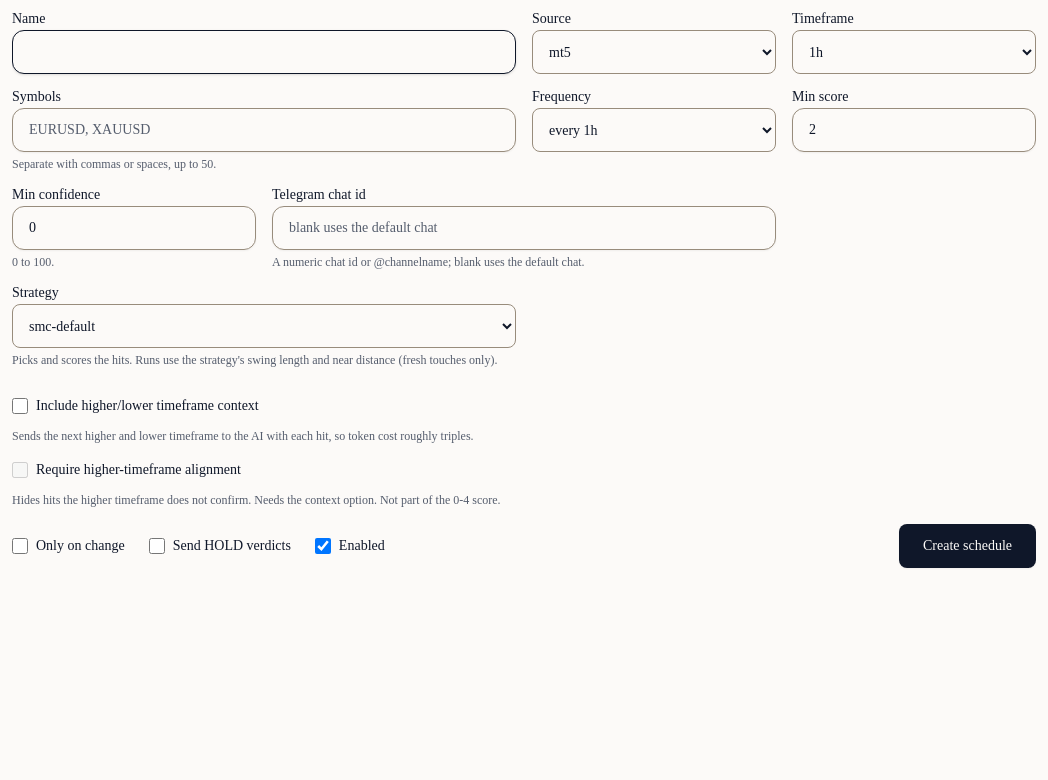
it: ScheduleForm › shows a request-level error as an alert
Click the button "Create schedule" at (968, 546), box top-left (899, 524), bottom-right (1036, 568)
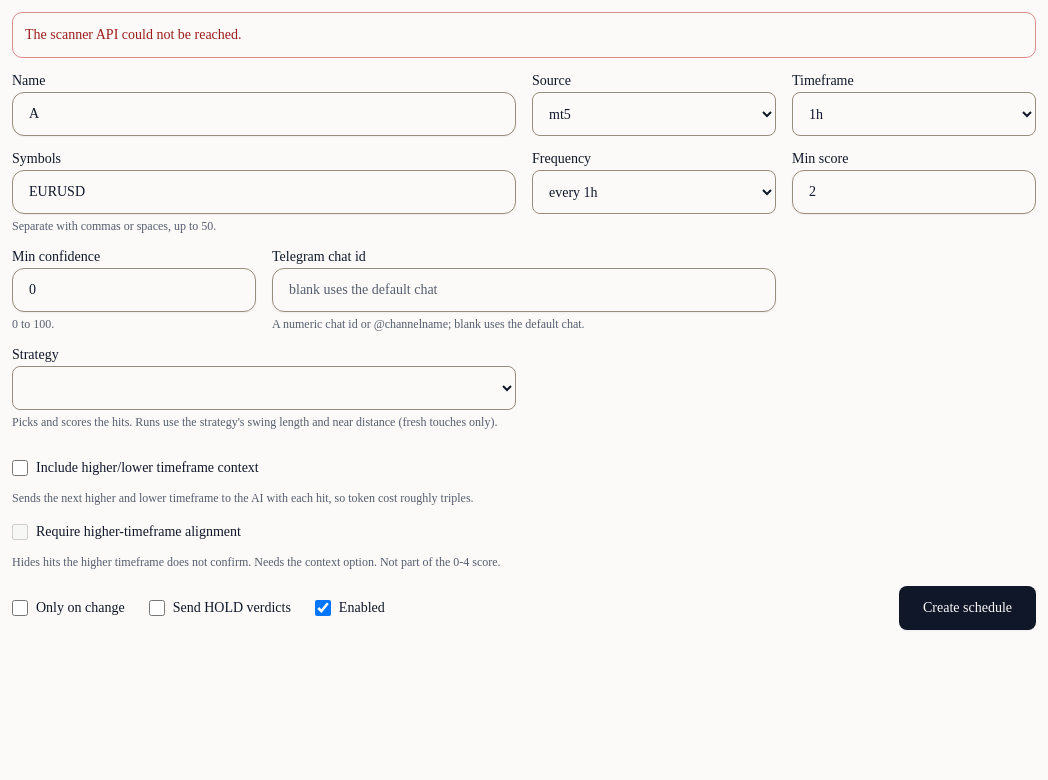
Check: the message shows "could not be reached", box top-left (25, 27), bottom-right (242, 42)
